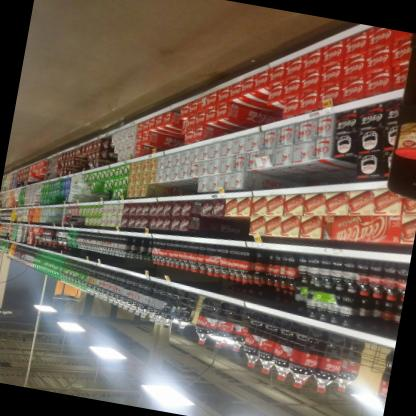empty_space: (350, 338, 385, 399), (191, 291, 203, 333)
